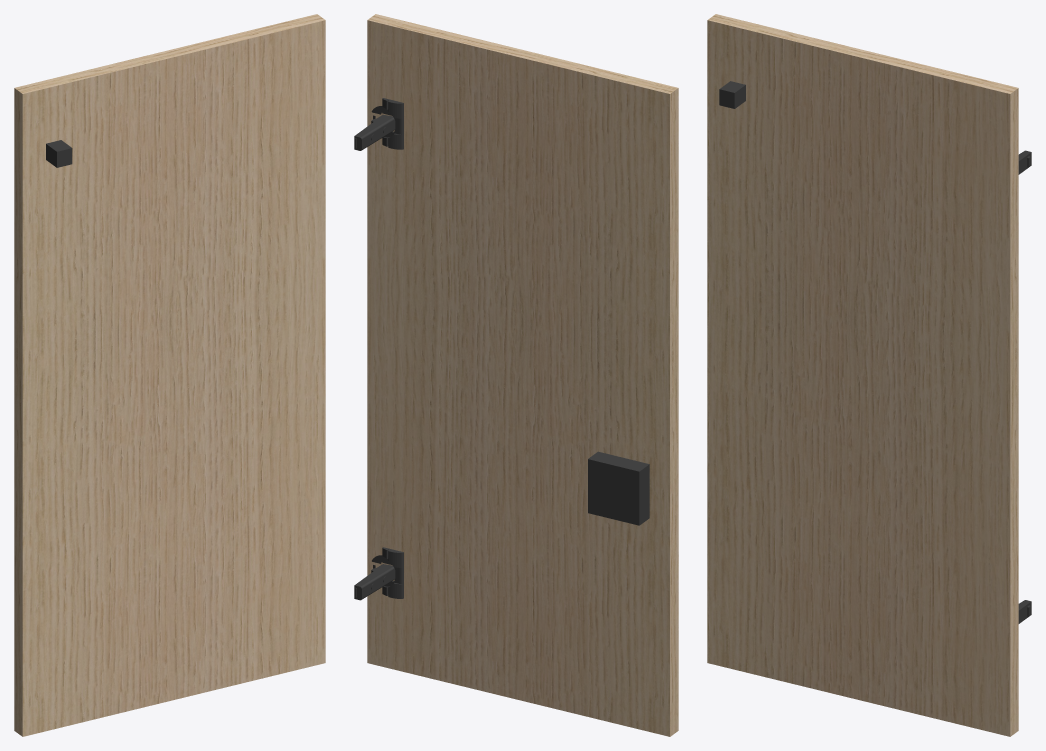
The model's file is Benk_D_dor_hoyre.glb.
3 views of the same model, side by side, from view 1: azimuth 30°, elevation 25°; view 2: azimuth 150°, elevation 25°; view 3: azimuth 330°, elevation 25° (orthographic).
Visible parts, largest first — view 1: 2025-284 Vitrineskap; view 2: 2025-284 Vitrineskap, Benk D dør høyre hengsel z758 Blum 71B3590, Benk D dør høyre hengsel z202 Blum 71B3590; view 3: 2025-284 Vitrineskap.
Part boxes in pixels (box(x1,y1,x2,y2)): 2025-284 Vitrineskap: box(14, 14, 325, 736); 2025-284 Vitrineskap: box(367, 14, 678, 736); Benk D dør høyre hengsel z758 Blum 71B3590: box(354, 98, 403, 150); Benk D dør høyre hengsel z202 Blum 71B3590: box(354, 547, 403, 600); 2025-284 Vitrineskap: box(707, 14, 1018, 736).
Bounding box in the file's own units: 393 × 797 × 112.
Materials: 2 (1 with a texture image).
